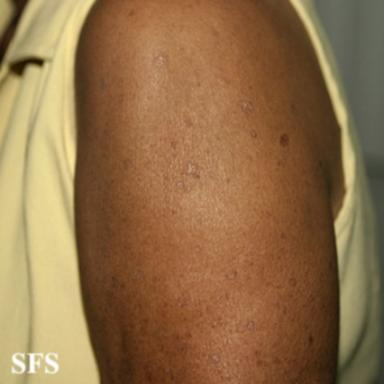Porokeratosis: (291, 0, 379, 381), (153, 54, 167, 68), (241, 101, 253, 114), (176, 343, 187, 356), (176, 296, 187, 307), (225, 270, 237, 280), (187, 162, 196, 175), (123, 159, 133, 170), (280, 134, 289, 146), (290, 104, 299, 115), (157, 327, 168, 336), (136, 269, 144, 279), (112, 276, 119, 287), (289, 278, 297, 287), (211, 354, 219, 363), (247, 321, 254, 331), (250, 129, 257, 138), (281, 233, 286, 239), (104, 250, 109, 256)
